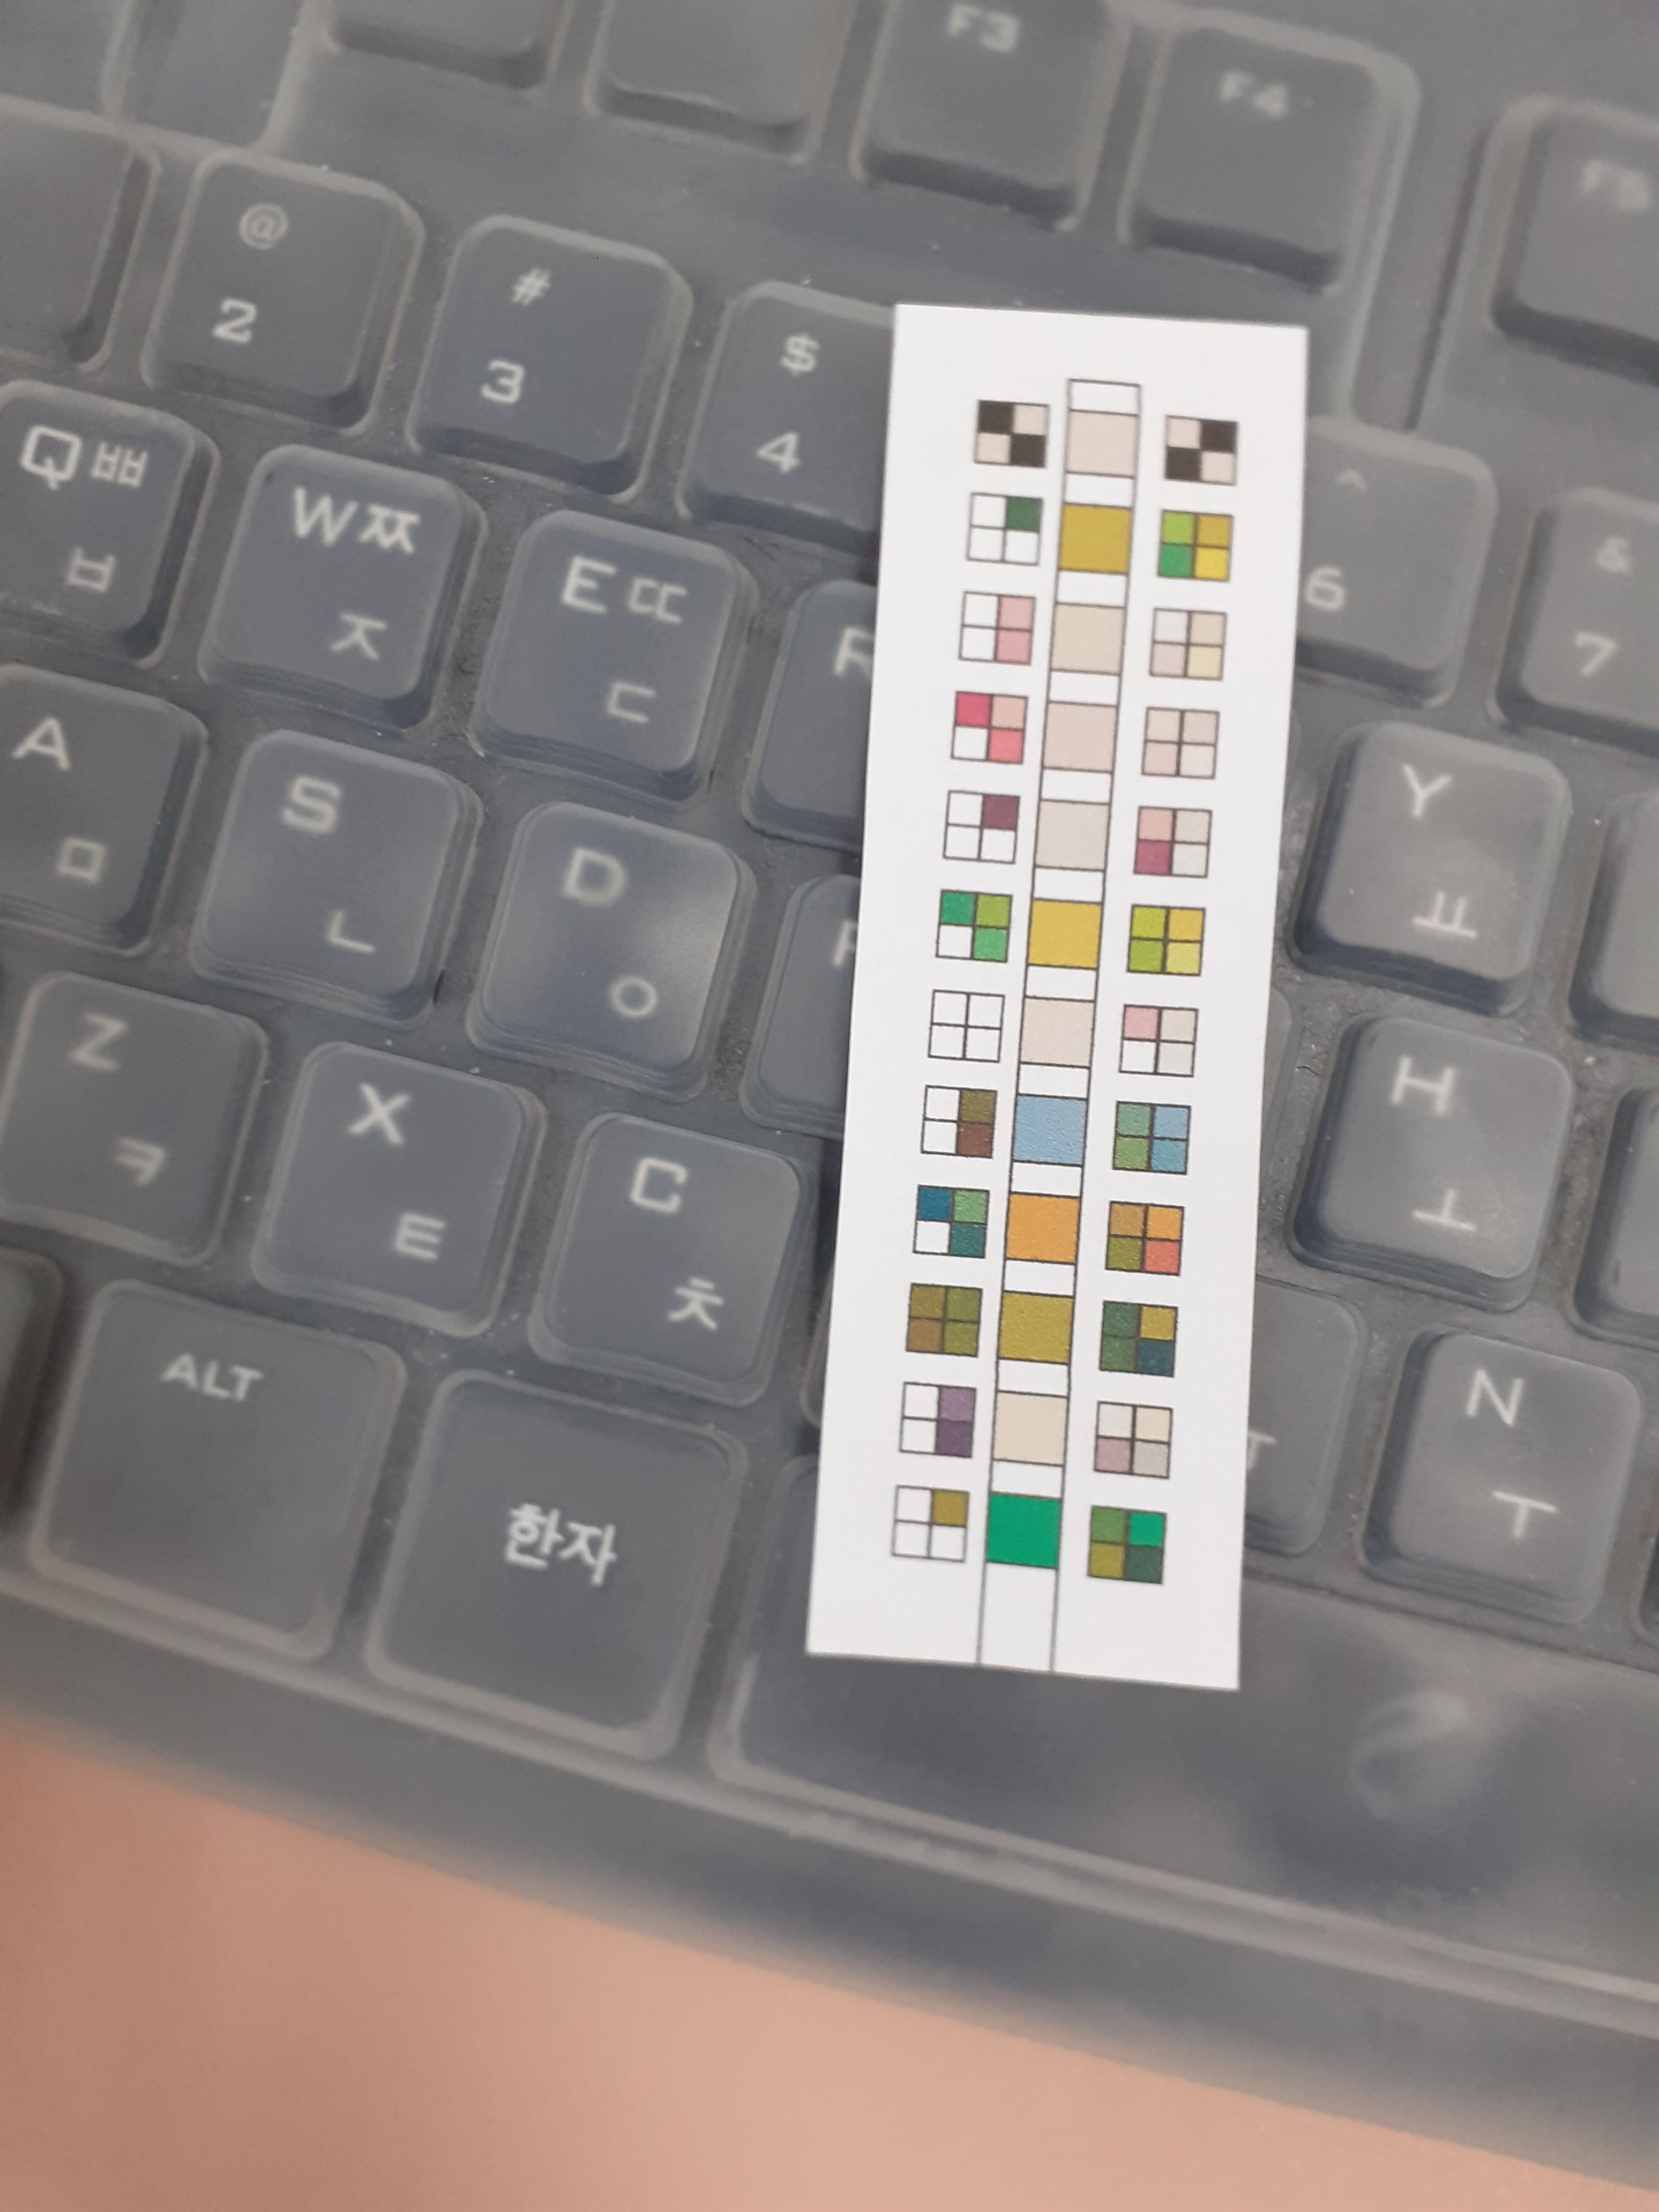tester: (875, 307, 1267, 1700)
